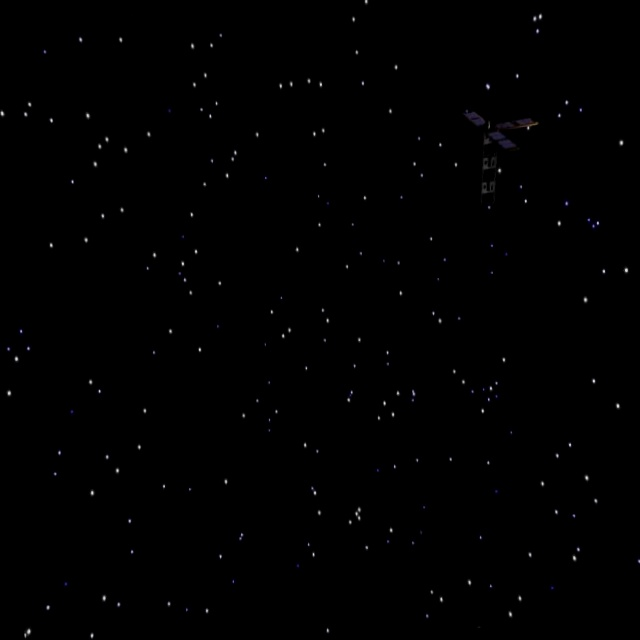medium_debris: (453, 99, 543, 205)
